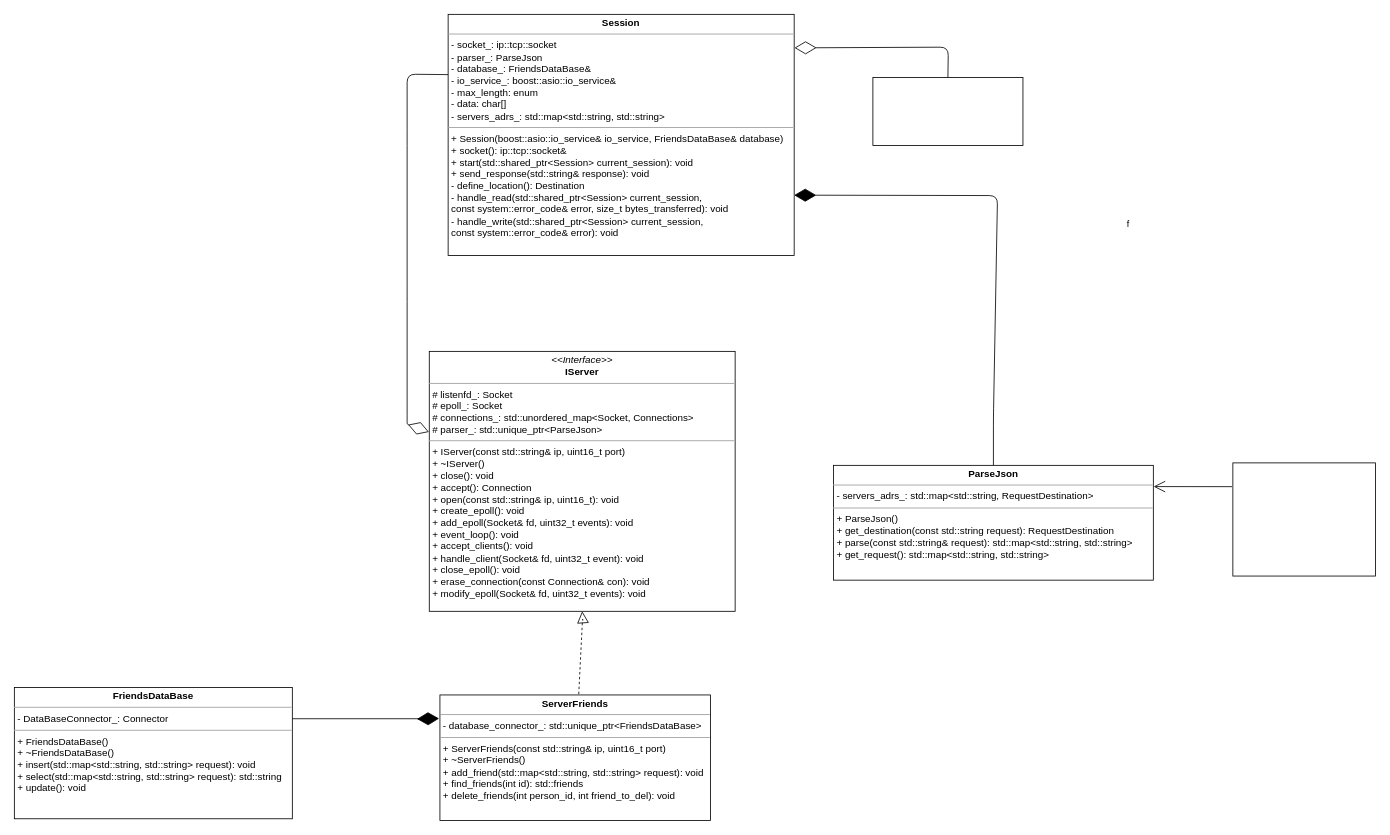
The diagram is 1390 pixels wide and 835 high, and some of its shapes have lost their labels. The shapes that lost their labels are listed below. From the top down, each one's box as (x1, y1, x2, y2) in pixels, then its label:
(872, 77, 1023, 146): Destination + ip: std::string + port: uint16_t port
(1232, 462, 1376, 576): <<enumeration>> RequestDestination FRIEND_SERV, POST_SERV, AUTH_SERV, USER_SERV
